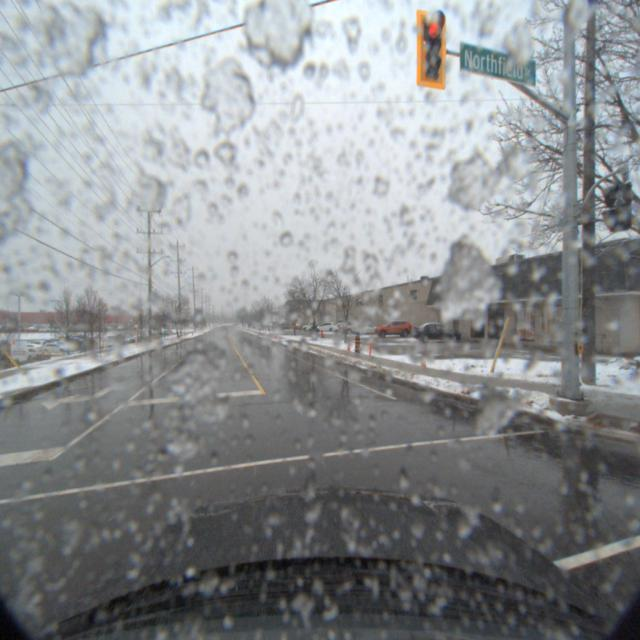Car: (408, 320, 462, 343), (370, 318, 413, 338), (349, 320, 383, 336)
